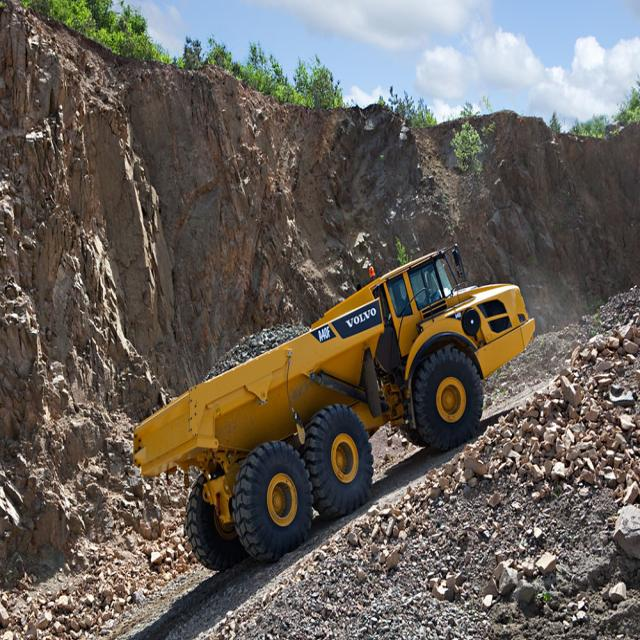dump_truck: (132, 238, 539, 568)
